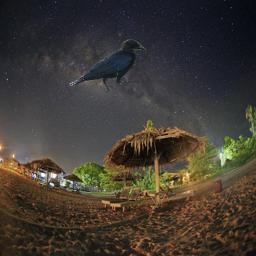Crow: (69, 39, 146, 93)
